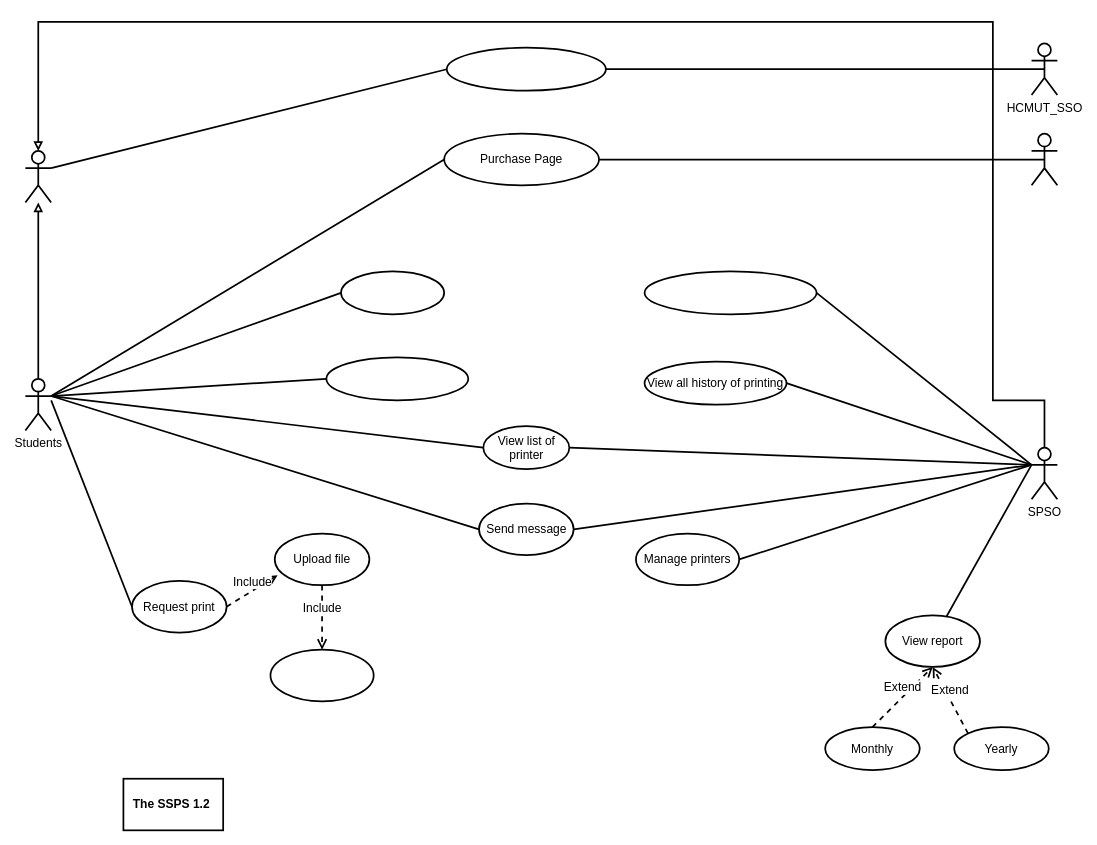
Image size: 1097x845. Some labels were removed from this diagram. Here are the shapes that lost their labels. From the top down, the centre of each, then its label:
(x=525, y=68): Login Authentication
(x=38, y=176): Persons
(x=1044, y=159): BKPay
(x=392, y=292): View balance page
(x=730, y=292): edit configuration of the system
(x=397, y=378): View history log of print usage
(x=321, y=675): Configure print option
